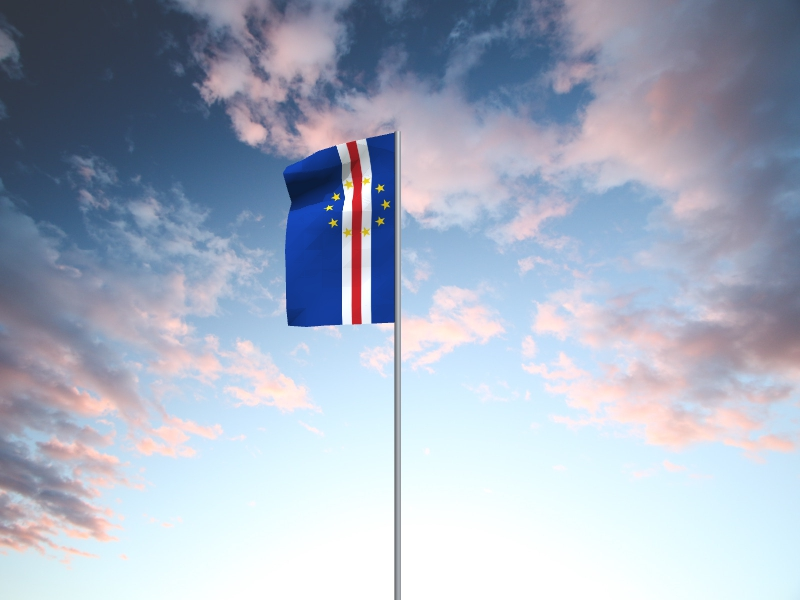cv: (283, 132, 395, 329)
